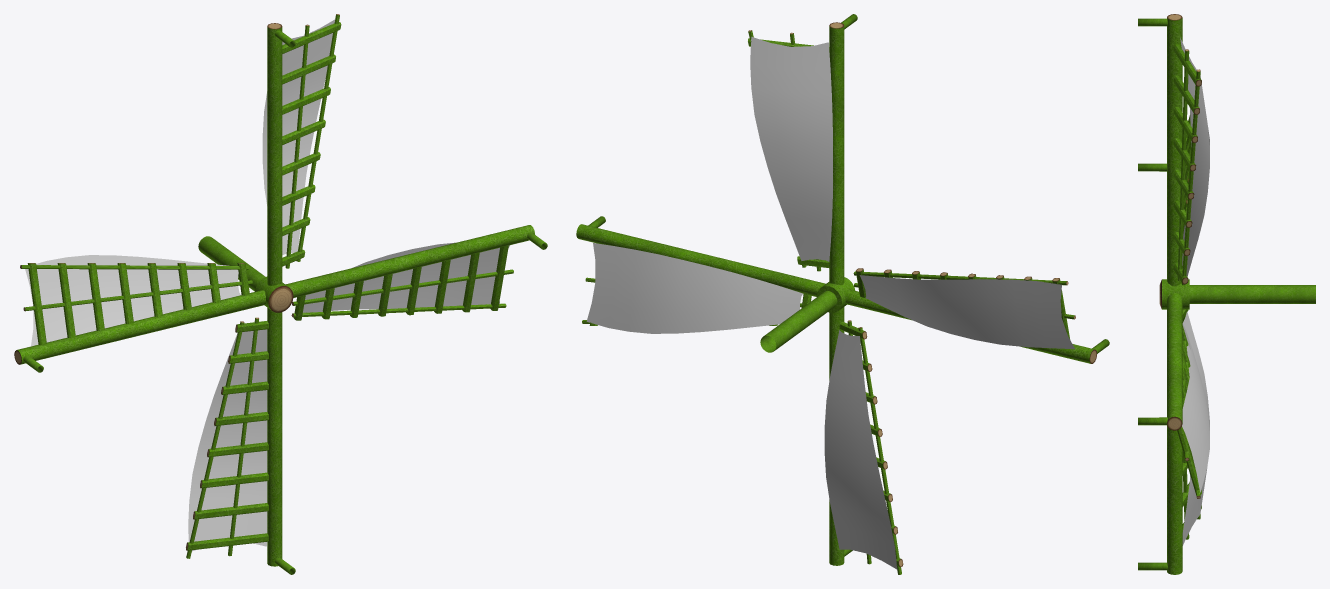
Rendered from SM_world_2_windmill_blades.fbx.
The picture shows the model from 3 angles, left to right: view 1: azimuth 30°, elevation 25°; view 2: azimuth 150°, elevation 25°; view 3: azimuth 270°, elevation 25°; orthographic projection. The views are drawn at different scales.
Visible parts, largest first — view 1: Windmill_blades; view 2: Windmill_blades; view 3: Windmill_blades.
Part boxes in pixels (x1,y1,x2,y2): Windmill_blades: [14, 14, 547, 574]; Windmill_blades: [576, 14, 1109, 574]; Windmill_blades: [1138, 14, 1315, 574].
Size of the model in its own units: 4060 by 1181 by 4060.
